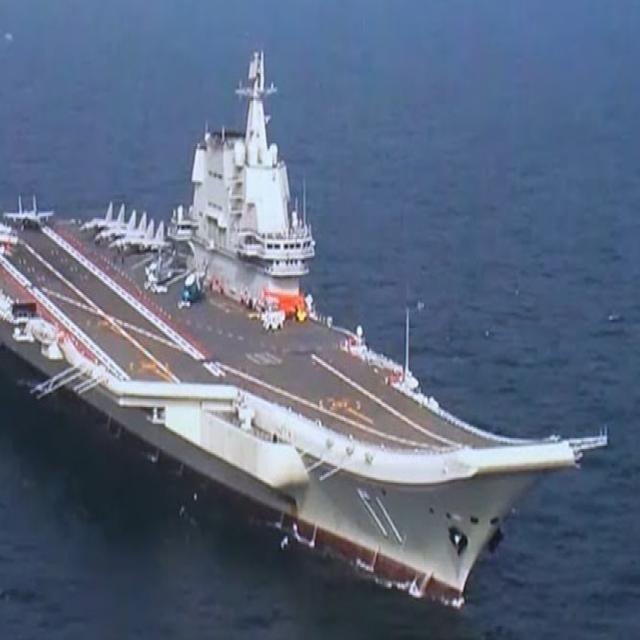navalvessels: (0, 52, 608, 607)
